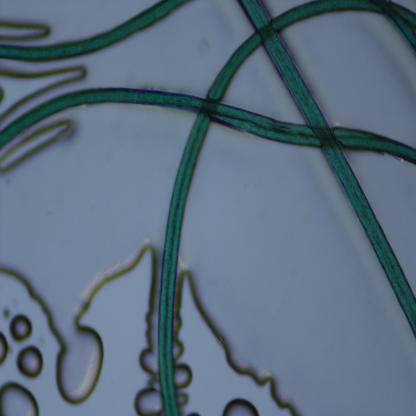Air bubble: (0, 241, 146, 404), (178, 267, 300, 413), (0, 117, 73, 176), (0, 68, 97, 112), (140, 243, 161, 381), (0, 13, 55, 43), (0, 380, 42, 415), (7, 312, 35, 344), (17, 345, 44, 377), (136, 385, 164, 415), (220, 396, 261, 416), (173, 364, 194, 390), (0, 329, 8, 367), (173, 338, 185, 362), (178, 392, 189, 407)
Microfibre: (158, 1, 416, 415), (239, 1, 416, 337), (0, 87, 416, 164), (0, 1, 191, 60), (376, 0, 416, 50)
